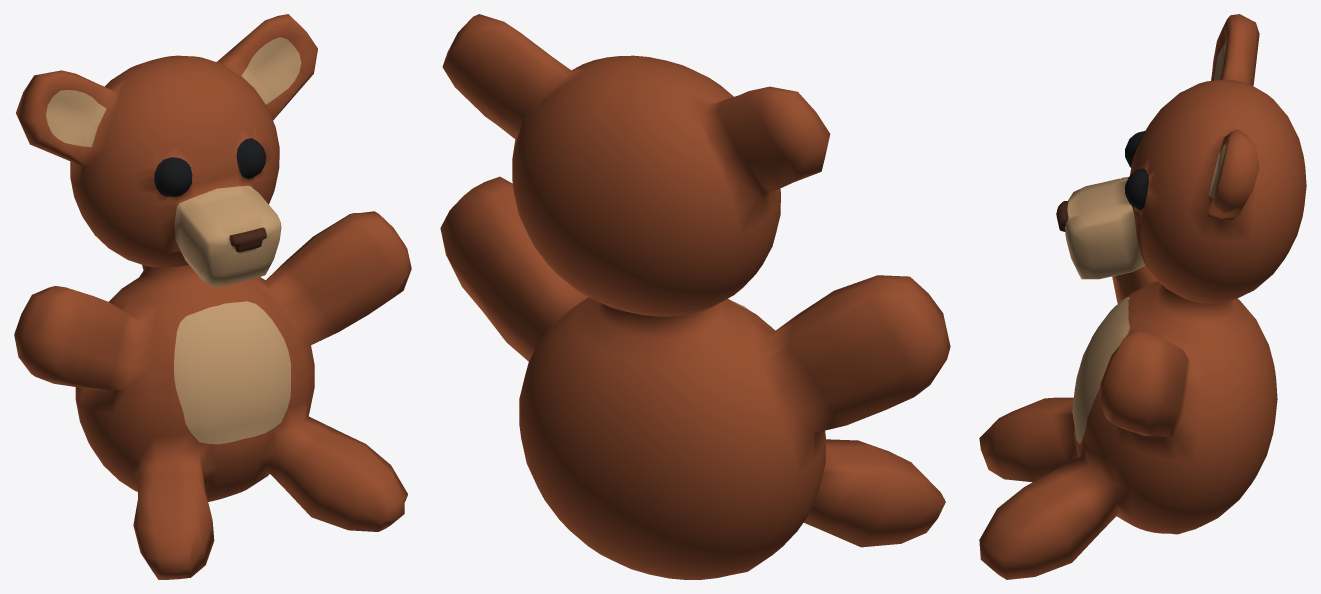
The model's file is Teddy_Intact.fbx.
3 renders of one model, left to right at view 1: azimuth 30°, elevation 25°; view 2: azimuth 150°, elevation 25°; view 3: azimuth 270°, elevation 25°, orthographic. The views are drawn at different scales.
Parts seen in each view (by area): view 1: Teddy; view 2: Teddy; view 3: Teddy.
Boxes of the visible parts, left/top/right/bottom form: Teddy: left=14, top=14, right=411, bottom=579; Teddy: left=440, top=14, right=950, bottom=579; Teddy: left=979, top=14, right=1306, bottom=579.
Bounding box in the file's own units: 0.364 × 0.3842 × 0.2571.
